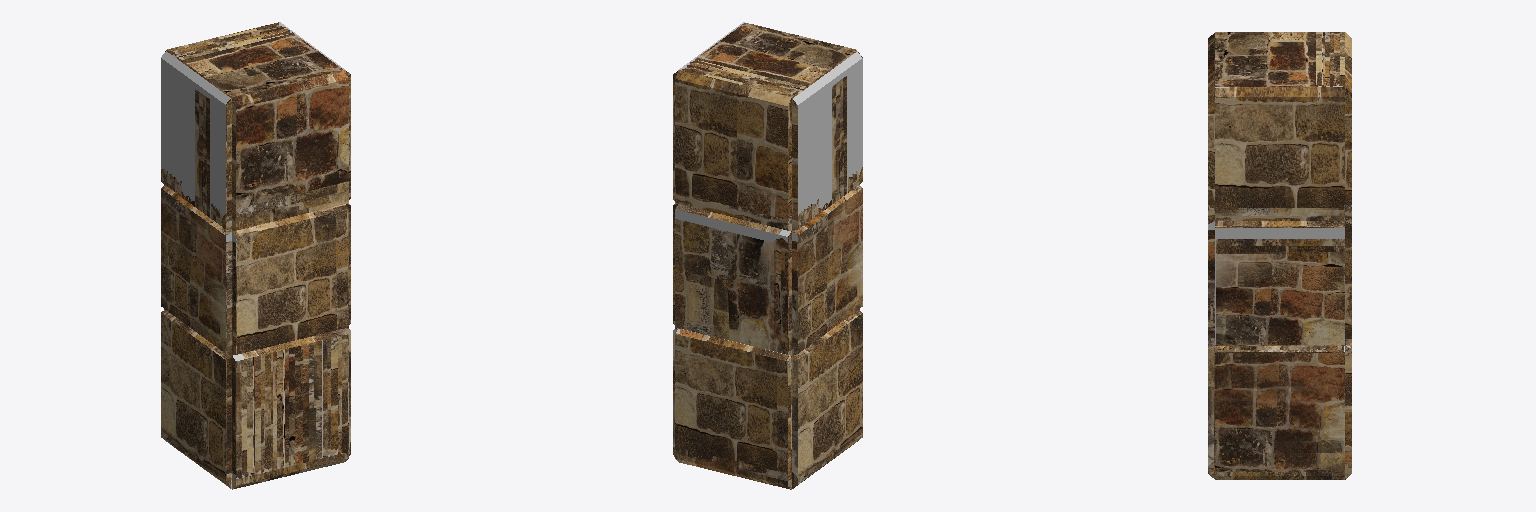
3 renders of one model, left to right at view 1: azimuth 30°, elevation 25°; view 2: azimuth 150°, elevation 25°; view 3: azimuth 270°, elevation 25°, orthographic.
Visible parts, largest first — view 1: Cube; view 2: Cube; view 3: Cube.
Boxes of the visible parts, x1,y1,x2,y2 form: Cube: [161, 22, 350, 489]; Cube: [673, 22, 862, 489]; Cube: [1208, 32, 1351, 479].
Size of the model in its own units: 2 by 6 by 2.
Materials: 1 (1 with a texture image).